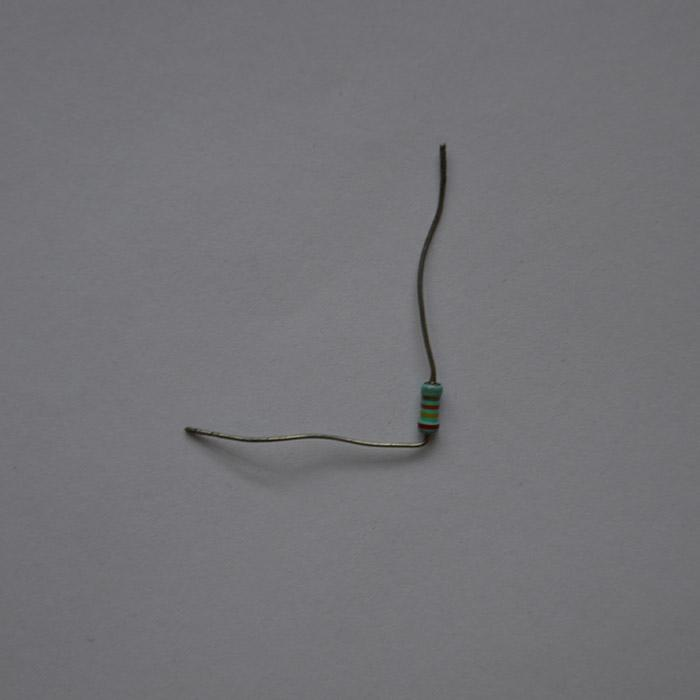resistor: (416, 380, 443, 434)
